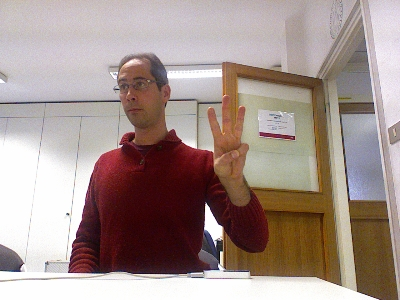三分: (206, 93, 249, 182)
